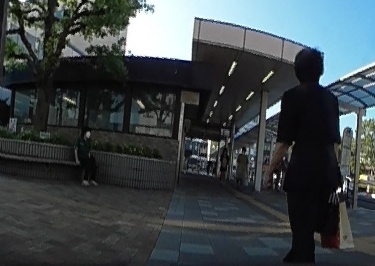person: (282, 44, 341, 264), (77, 125, 99, 188), (234, 144, 248, 186), (219, 146, 229, 178)
